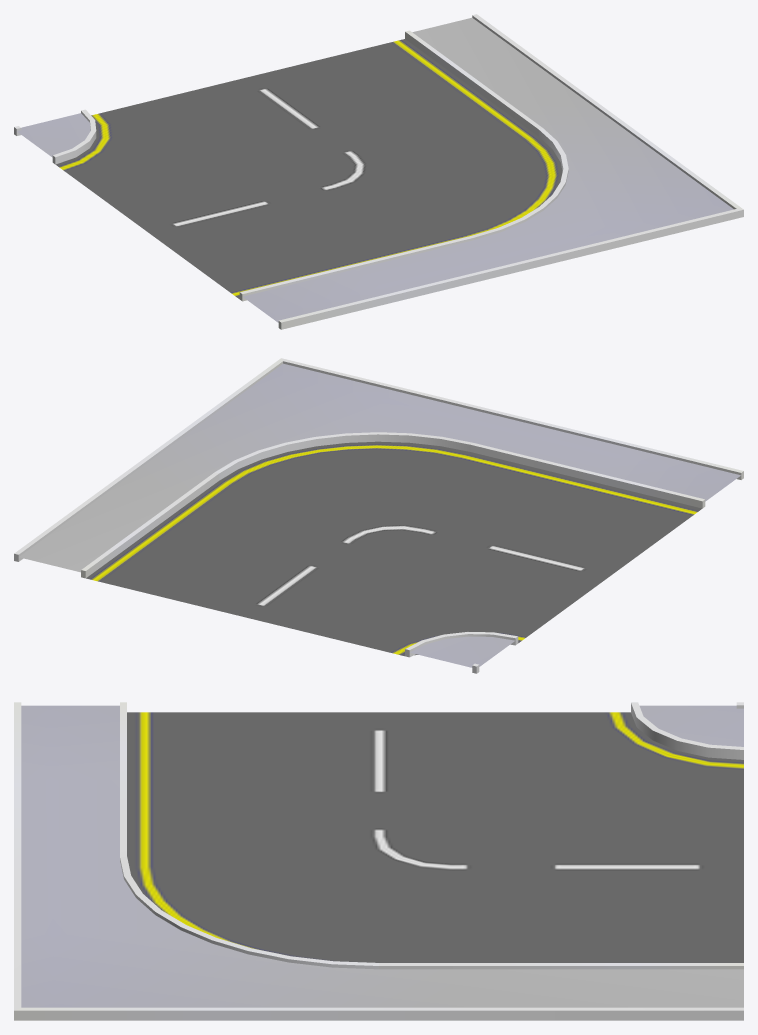
The model's file is ROAD_turn.FBX.
3 renders of one model, top to bottom at view 1: azimuth 30°, elevation 25°; view 2: azimuth 150°, elevation 25°; view 3: azimuth 270°, elevation 25°, orthographic. The views are drawn at different scales.
Visible parts, largest first — view 1: ROAD_turn; view 2: ROAD_turn; view 3: ROAD_turn.
Part boxes in pixels (x1,y1,x2,y2): ROAD_turn: [14, 14, 743, 329]; ROAD_turn: [14, 358, 743, 673]; ROAD_turn: [14, 702, 743, 1020].
Size of the model in its own units: 1 by 0.015 by 1.
